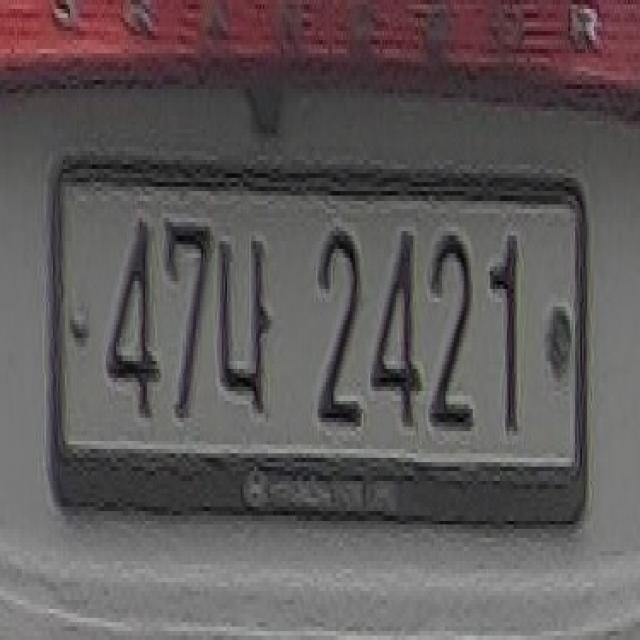1: (483, 229, 528, 462)
2: (312, 220, 368, 474), (426, 228, 480, 456)
4: (98, 203, 166, 453), (374, 213, 424, 474)
7: (162, 211, 212, 448)
license_plate: (41, 123, 598, 570)
na: (216, 228, 280, 444)
